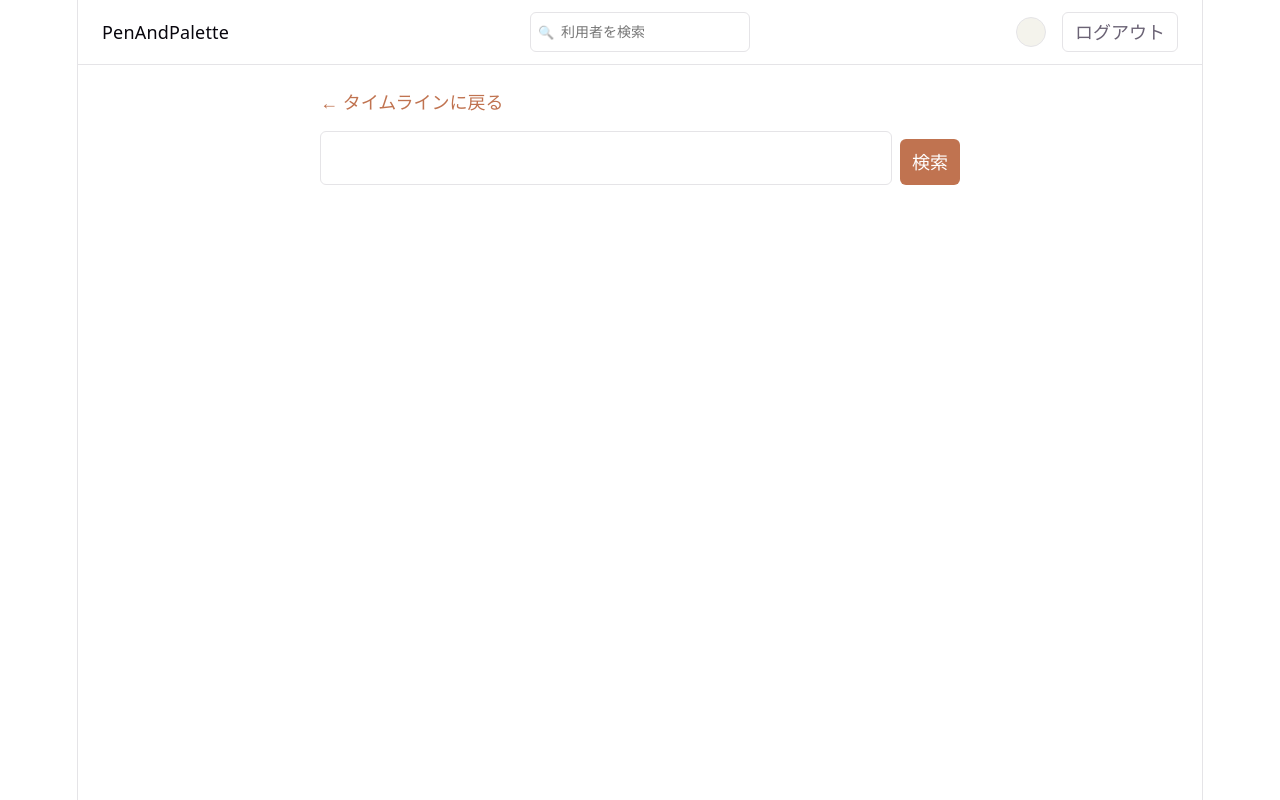
UserSearchView › 検索結果が0件のときは該当なしメッセージを表示する
Step 1. Type "該当なし" into the field with test id "user-search-keyword" → (606, 158), box [320,131,892,185]
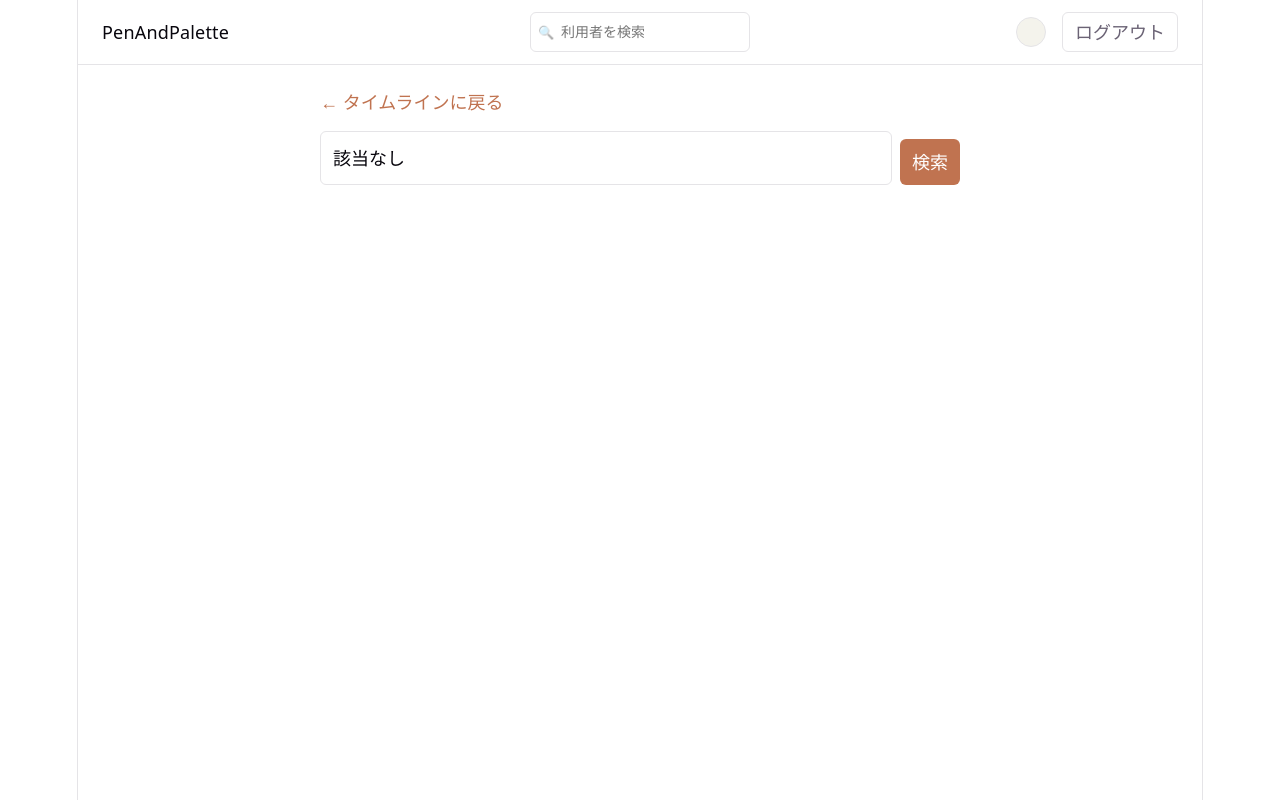
Step 2. Click the button with test id "user-search-submit" → (930, 162), box [900,139,960,185]
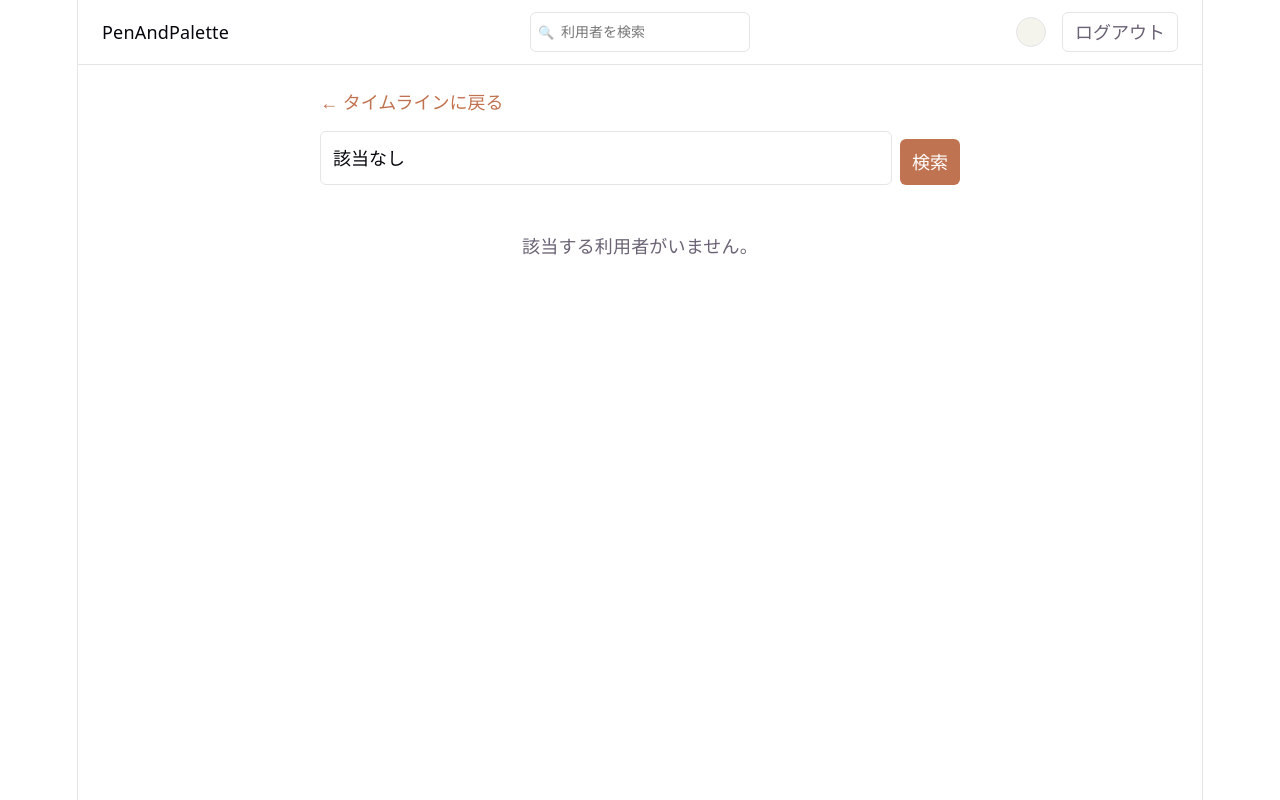
Result: the text "該当する利用者がいません。" is shown at [522,234,758,258]
